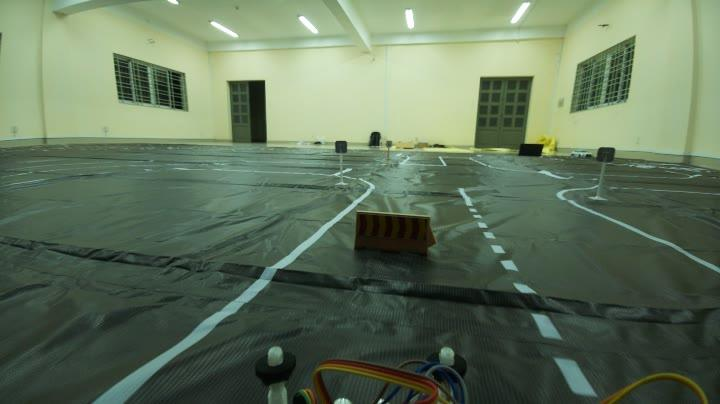roadblock: (352, 204, 444, 263)
